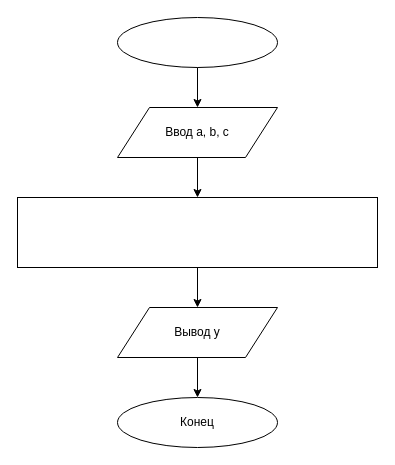
This 395x465 diagram has some shape labels left out. The shapes that lost their labels are listed below. From the top down, each one's box as (x1, y1, x2, y2) in pixels, then its label:
(116, 16, 278, 68): Начало
(16, 196, 378, 268): y = (sqrt(2^(a+b)) + arccos c) / (b arctg(b/c))
